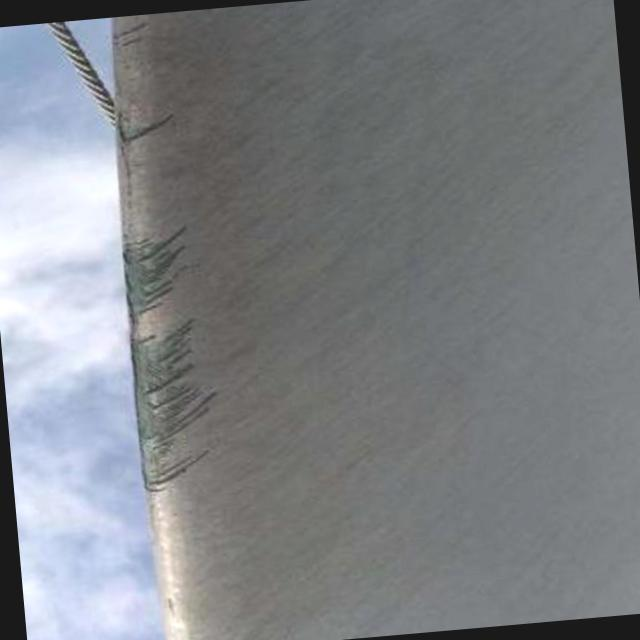corrosion: (100, 104, 216, 494)
